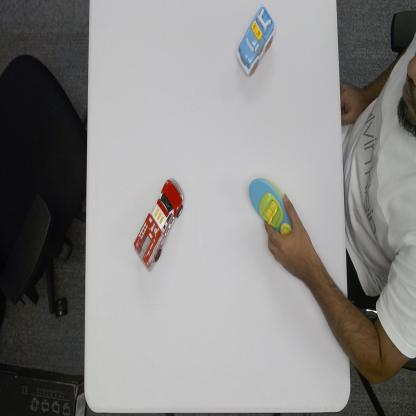Arm: (304, 260, 349, 368)
Boat: (248, 175, 291, 236)
Car: (234, 4, 276, 79)
Firetruck: (132, 176, 186, 274)
Hand: (263, 193, 314, 278)
